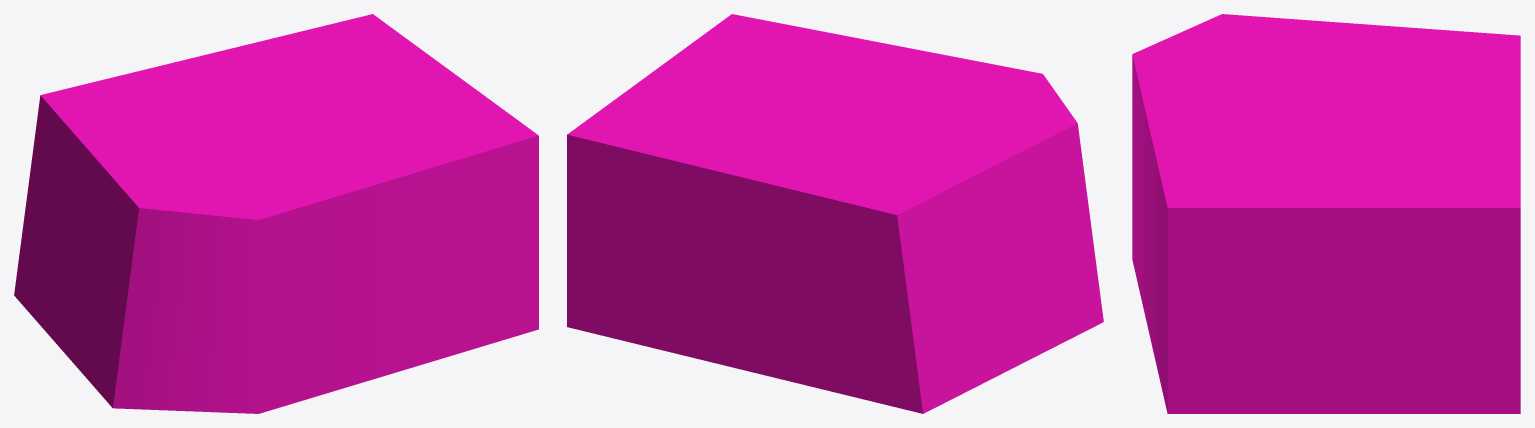
Rendered from study_book_pile_3_meshCollider.fbx.
3 views of the same model, side by side, from view 1: azimuth 30°, elevation 25°; view 2: azimuth 150°, elevation 25°; view 3: azimuth 270°, elevation 25° (orthographic). The views are drawn at different scales.
Parts seen in each view (by area): view 1: study_book_pile_3_meshCollider; view 2: study_book_pile_3_meshCollider; view 3: study_book_pile_3_meshCollider.
Part boxes in pixels (left/top/right/bottom): study_book_pile_3_meshCollider: left=14, top=14, right=538, bottom=413; study_book_pile_3_meshCollider: left=567, top=14, right=1103, bottom=413; study_book_pile_3_meshCollider: left=1132, top=14, right=1520, bottom=413.
Bounding box in the file's own units: 31.52 × 14.58 × 24.9.
